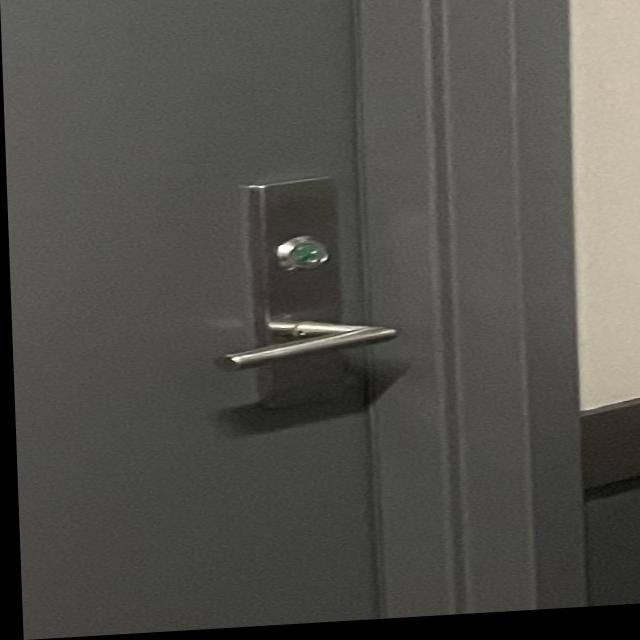door_handle: (191, 305, 413, 395)
